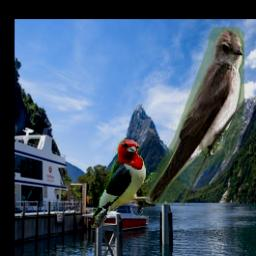Swallow: (146, 28, 244, 206)
Woodpecker: (89, 138, 156, 228)
